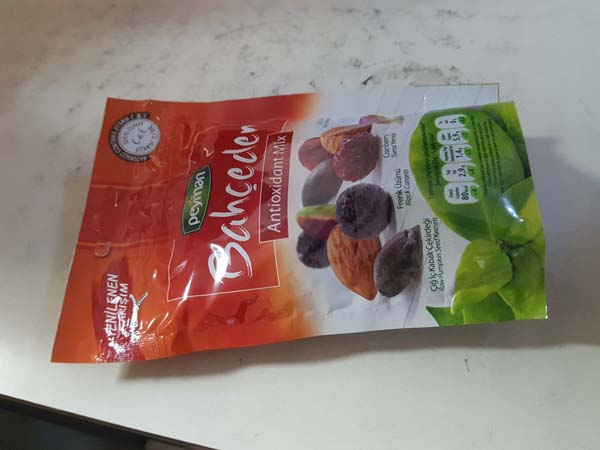bahcedenantioxidan: (48, 76, 562, 360)
